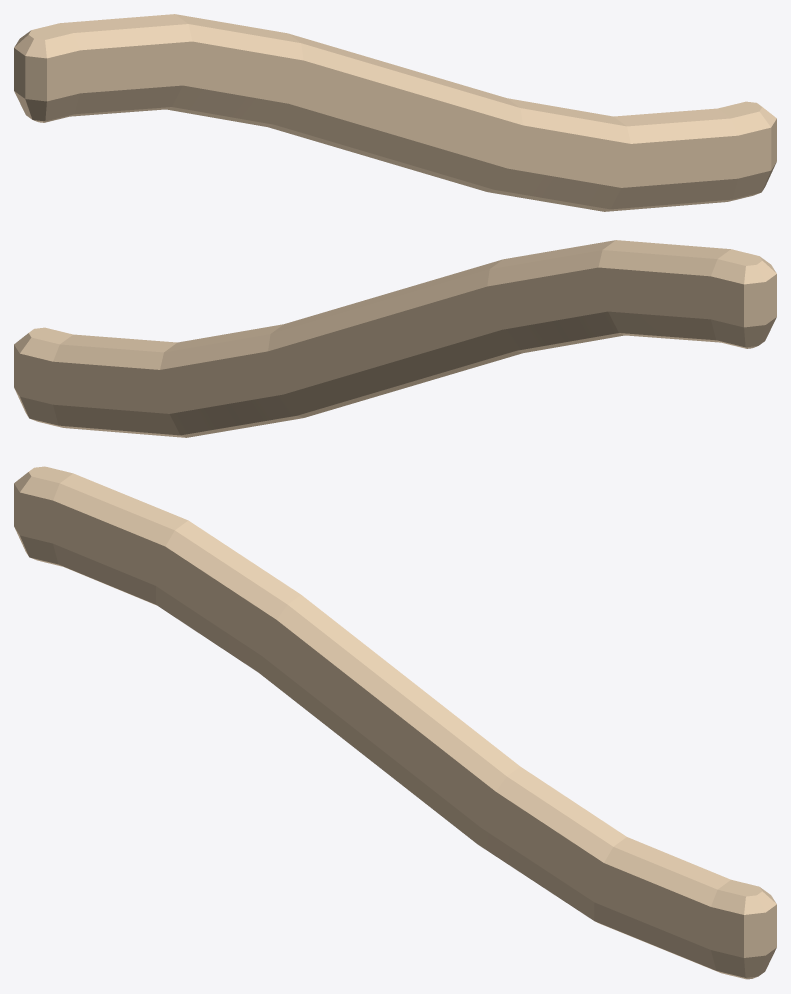
File: opengameart-modular-temple-3d-models-2.glb
3 renders of one model, top to bottom at view 1: azimuth 30°, elevation 25°; view 2: azimuth 150°, elevation 25°; view 3: azimuth 330°, elevation 25°, orthographic.
Visible parts, largest first — view 1: object1; view 2: object1; view 3: object1.
Boxes of the visible parts, x1=… form: object1: x1=14, y1=14, x2=776, y2=211; object1: x1=14, y1=240, x2=776, y2=437; object1: x1=14, y1=466, x2=776, y2=979.
Size of the model in its own units: 3.2 by 1.35 by 0.2.
